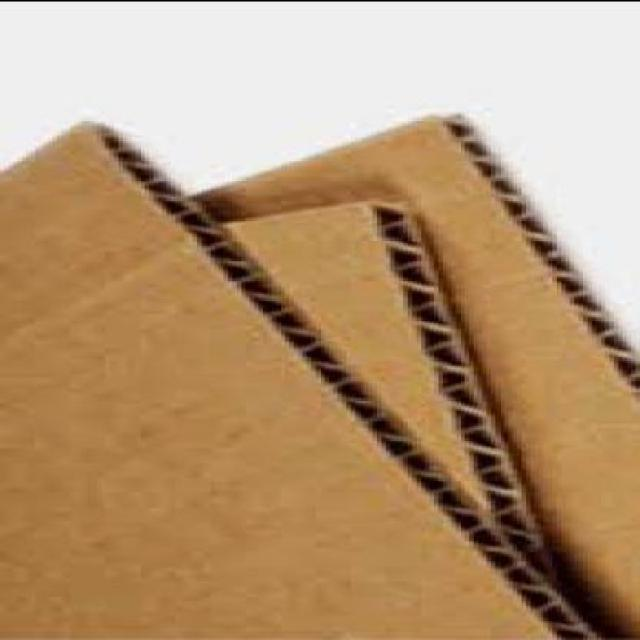CARDBOARD: (0, 119, 602, 638), (184, 110, 636, 638), (214, 195, 566, 582)
